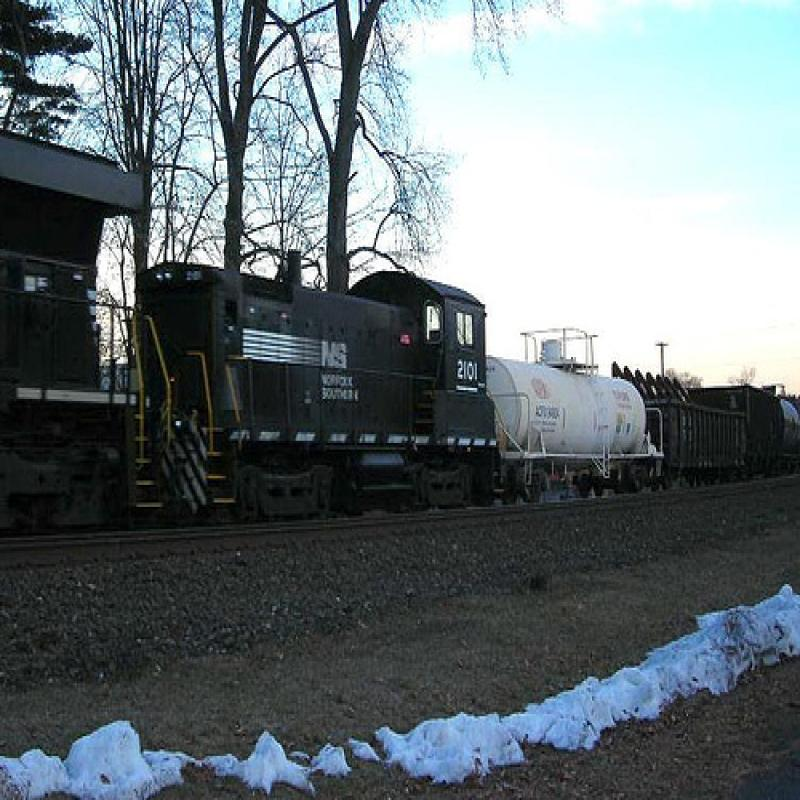train: (2, 252, 800, 534)
